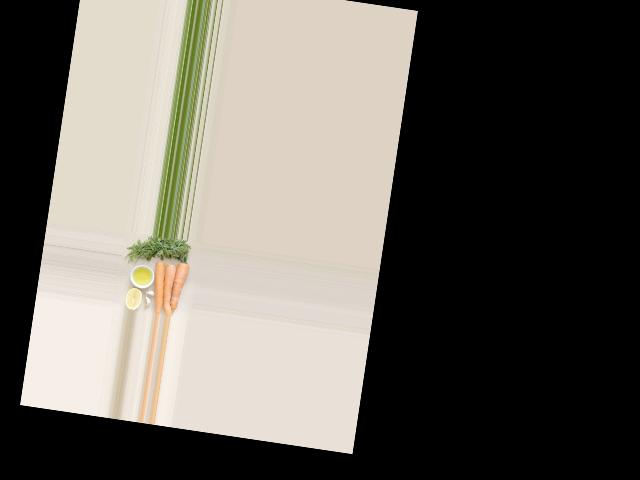carrot: (148, 258, 170, 315)
